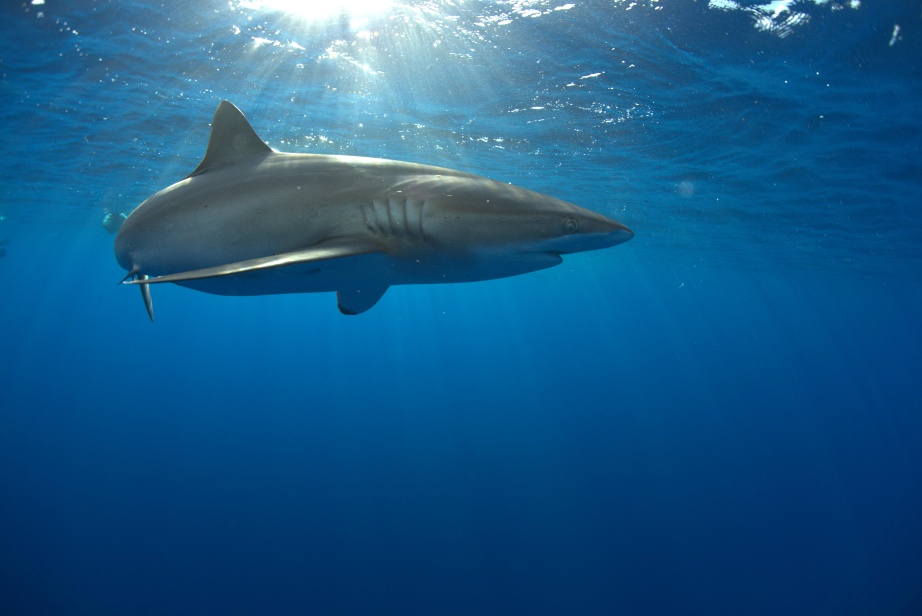Sedoso: (87, 91, 642, 349)
